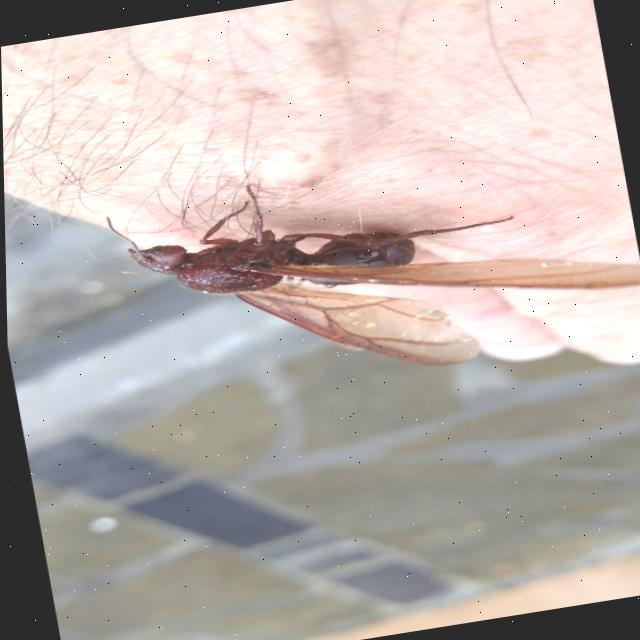Alive-Female-Alate: (100, 126, 640, 415)
